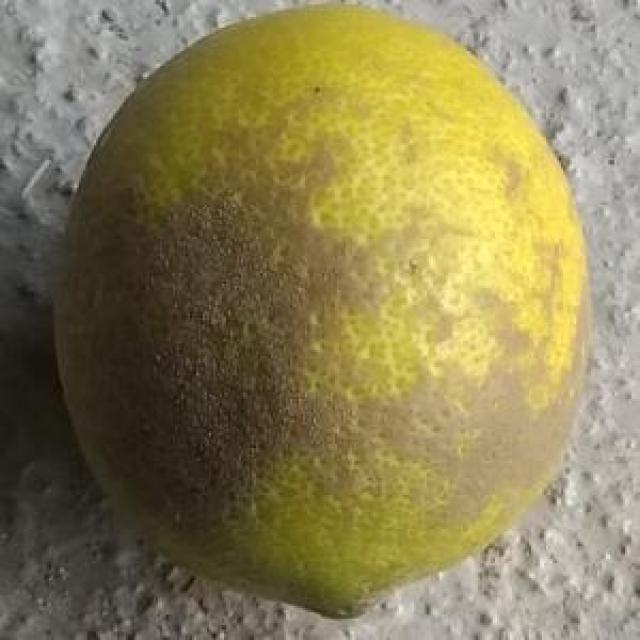lemon: (48, 2, 596, 626)
